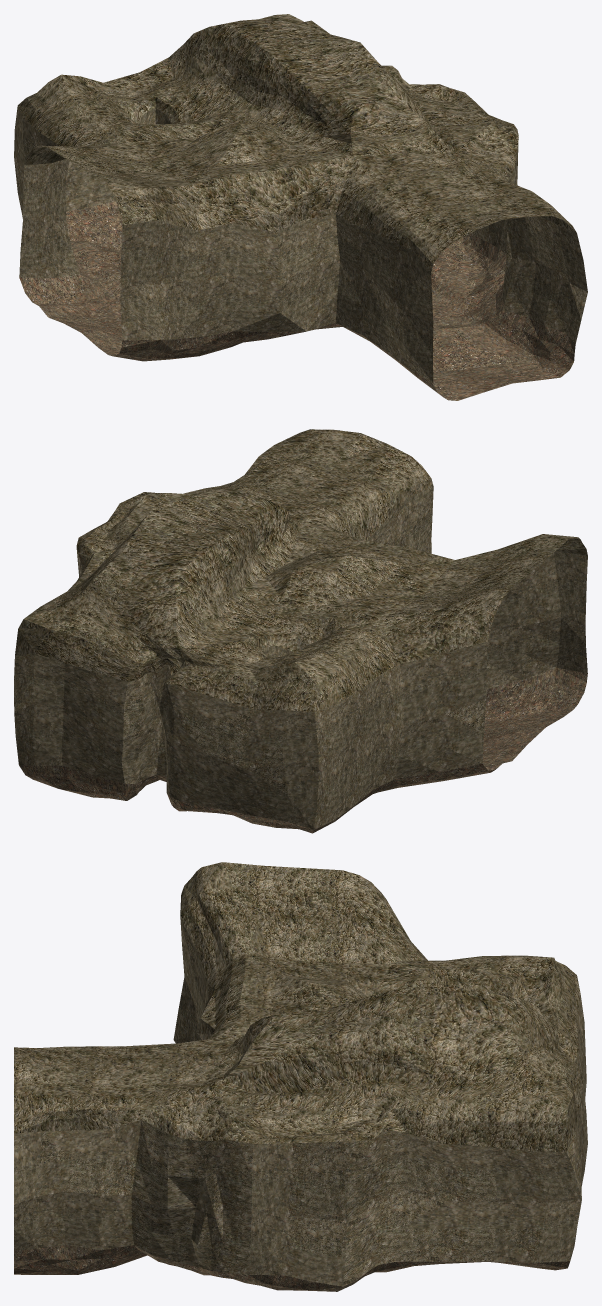
The model's file is thm_tato_fort_tusken_r2_mesh_r2.fbx.
3 renders of one model, top to bottom at view 1: azimuth 30°, elevation 25°; view 2: azimuth 150°, elevation 25°; view 3: azimuth 270°, elevation 25°, orthographic. The views are drawn at different scales.
Parts seen in each view (by area): view 1: mesh_node; view 2: mesh_node; view 3: mesh_node.
Part boxes in pixels (bbox=[...]): mesh_node: bbox=[14, 14, 587, 400]; mesh_node: bbox=[14, 429, 587, 833]; mesh_node: bbox=[14, 862, 587, 1291].
Size of the model in its own units: 20.05 by 9.91 by 22.02.
